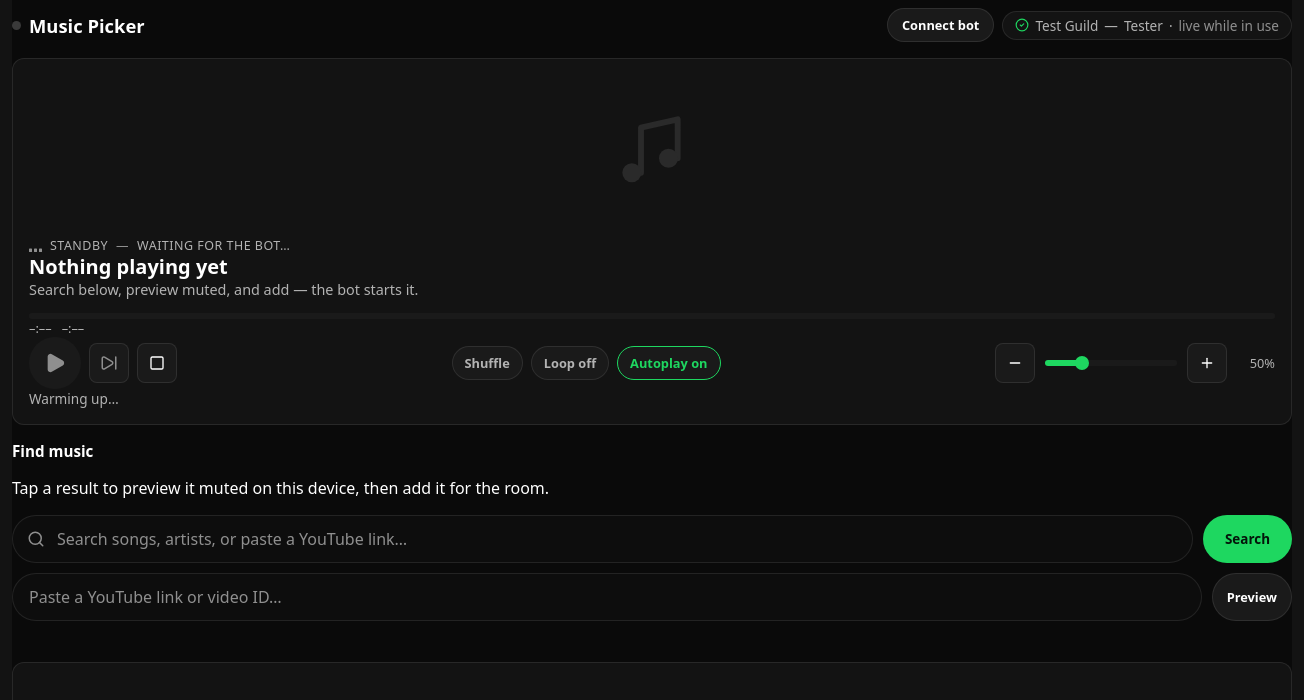
Test: search + audition (Checkpoint 4) › a pasted link in the search box previews instead of searching
In the dropdown named "Search YouTube": (602, 539) x1=12 y1=515 x2=1193 y2=563, type "https://youtu.be/ccccccccccc"
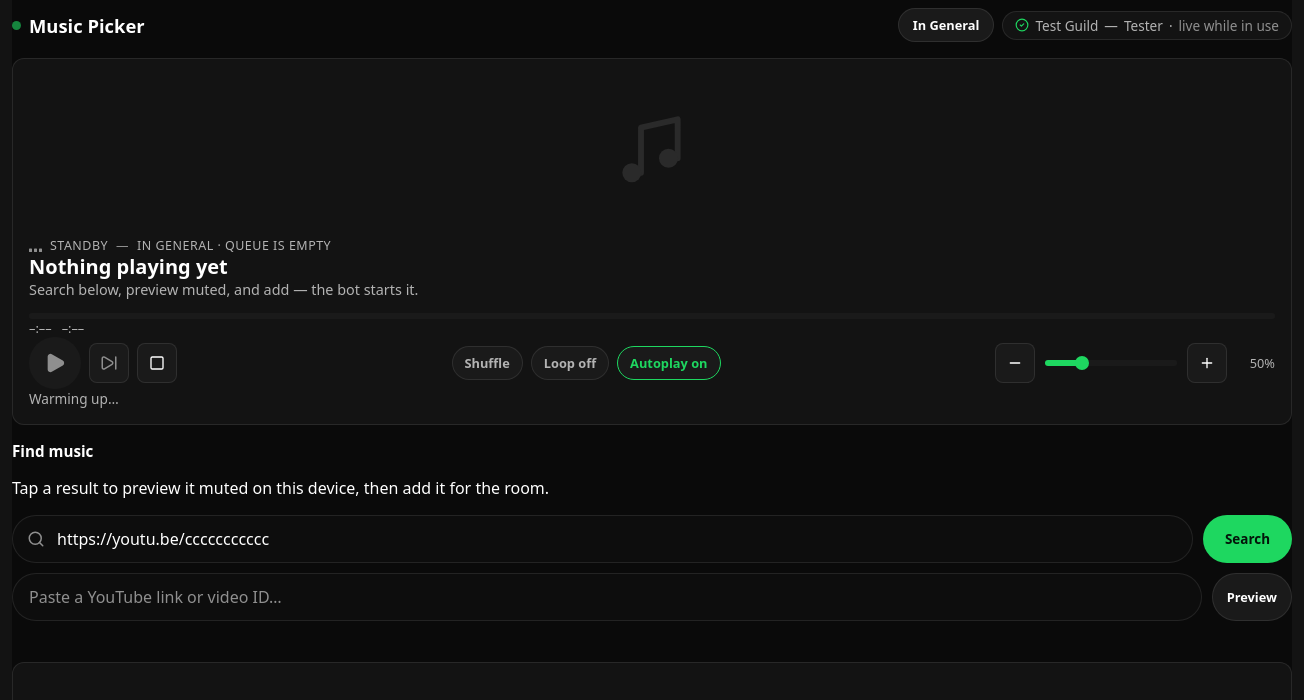
Click the button "Search": (1248, 539) x1=1203 y1=515 x2=1292 y2=563
(page scrolled)
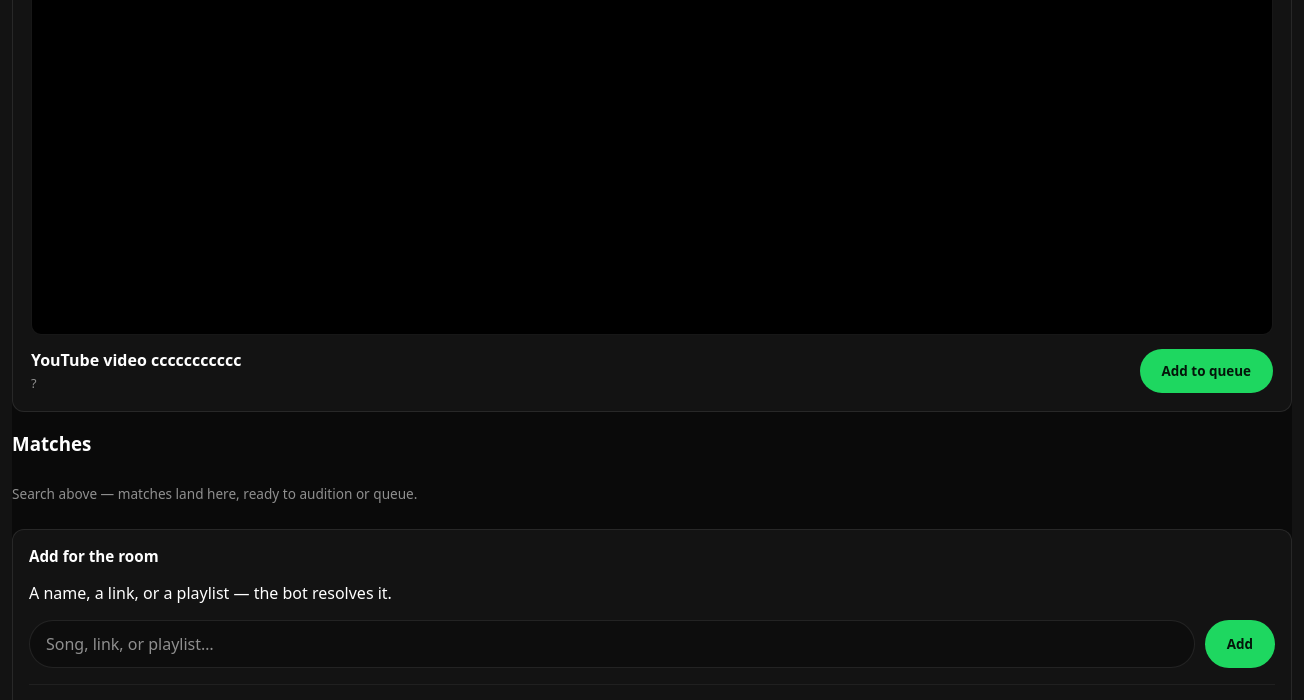
Result: the text "YouTube video ccccccccccc" is shown at x1=31 y1=349 x2=241 y2=371
